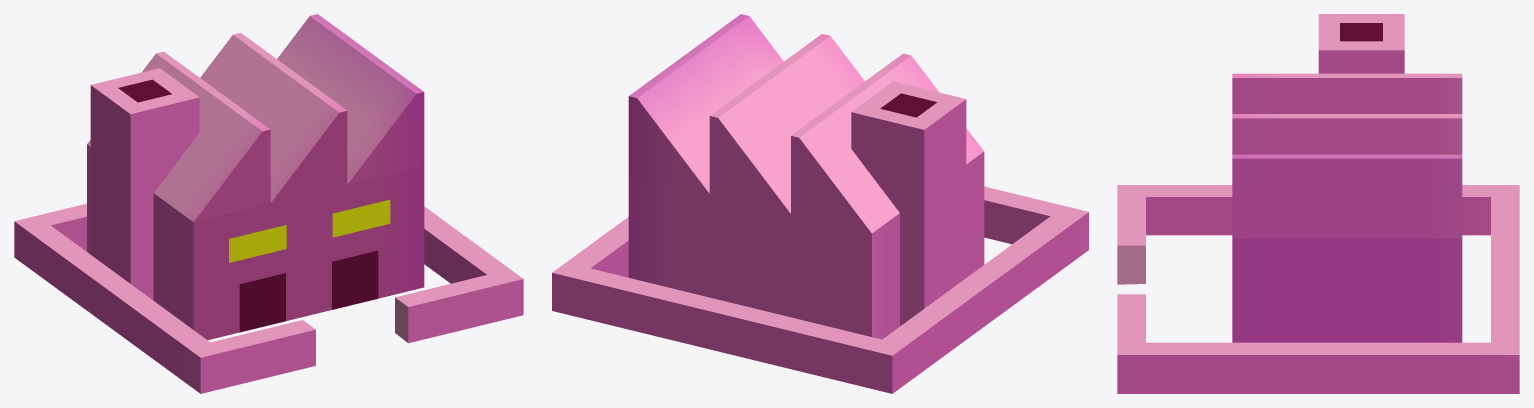
Rendered from Factory.PinkCosmos.glb.
The picture shows the model from 3 angles, left to right: view 1: azimuth 30°, elevation 25°; view 2: azimuth 150°, elevation 25°; view 3: azimuth 270°, elevation 25°; orthographic projection. The views are drawn at different scales.
Parts seen in each view (by area): view 1: Factory.PinkCosmos; view 2: Factory.PinkCosmos; view 3: Factory.PinkCosmos.
Part boxes in pixels (left/top/right/bottom): Factory.PinkCosmos: left=14, top=14, right=523, bottom=393; Factory.PinkCosmos: left=552, top=14, right=1088, bottom=393; Factory.PinkCosmos: left=1117, top=14, right=1519, bottom=393.
Size of the model in its own units: 2.8 by 1.71 by 2.8.
2 materials, 1 textured.
